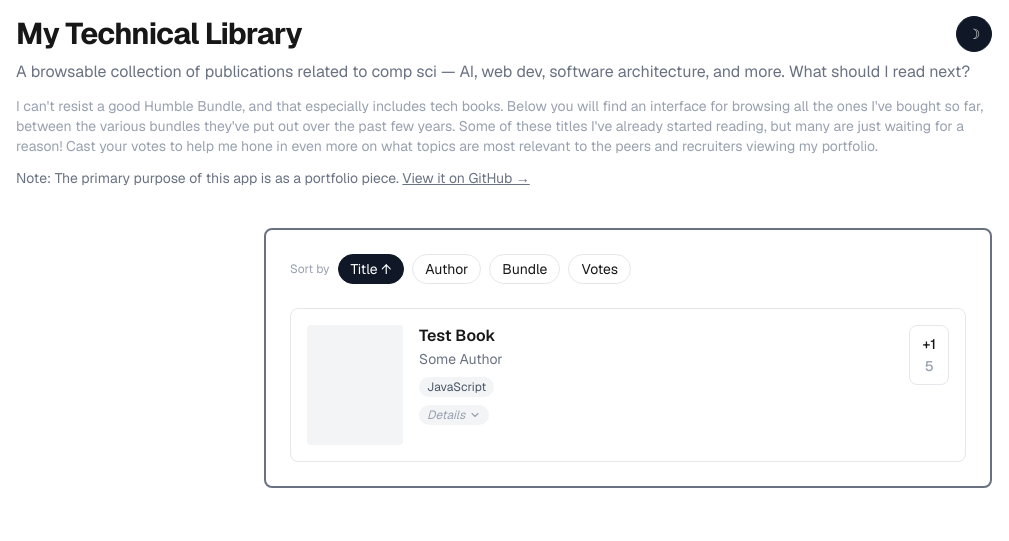
BookShelf › shows a vote error notice when castVote fails
Click the button "+1 5".
click(929, 355)  # box [909, 325, 949, 385]
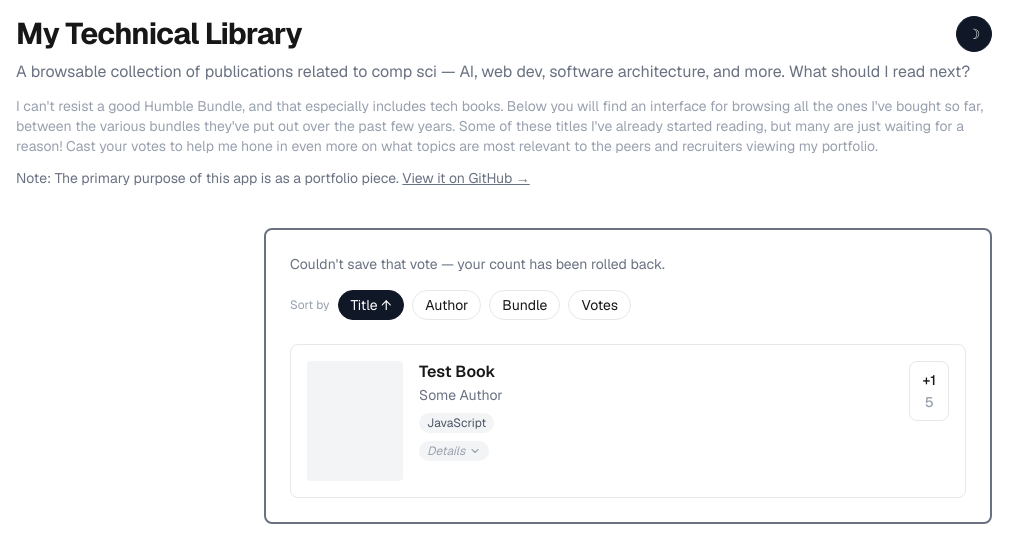
Now the text "Couldn't save that vote — your count has been rolled back." is shown, box [290, 255, 665, 273]
